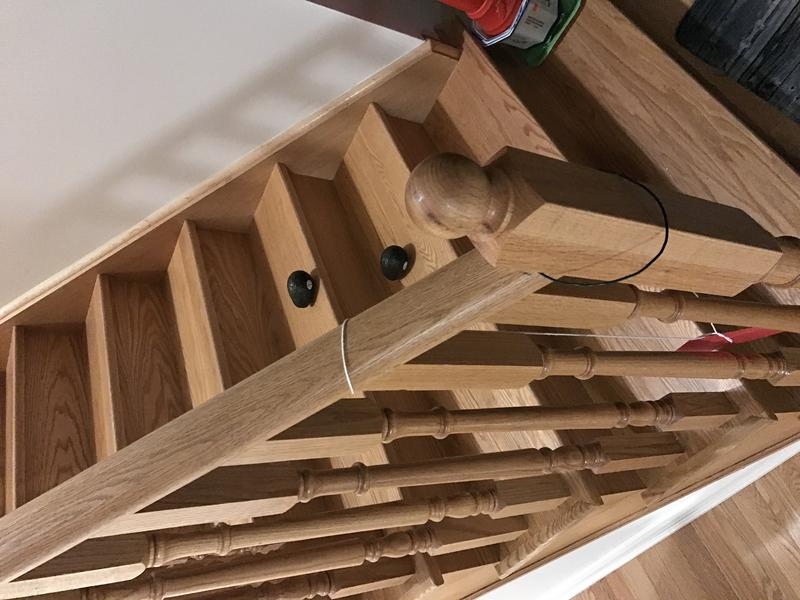avocado: (373, 235, 412, 287), (282, 269, 319, 309)
